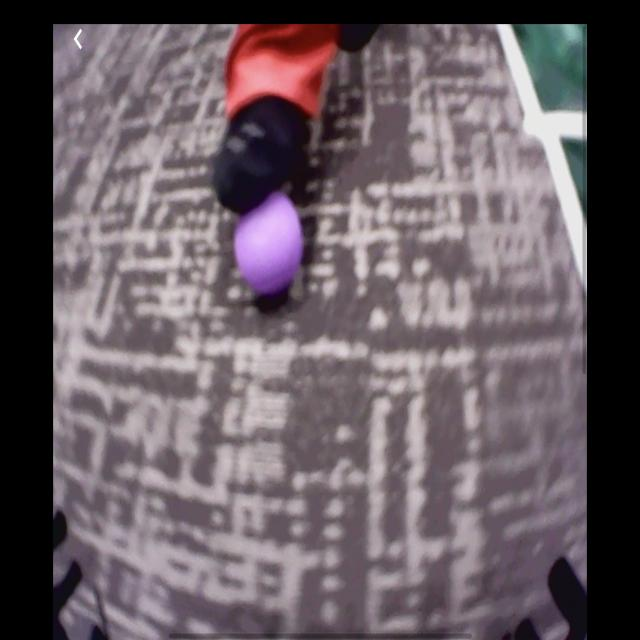ball: (236, 192, 301, 295)
